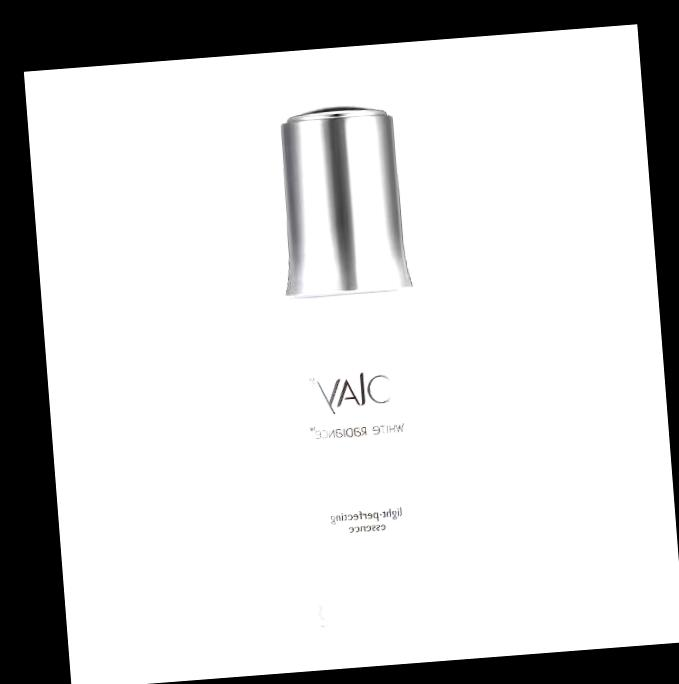cosmetic: (269, 99, 441, 622)
